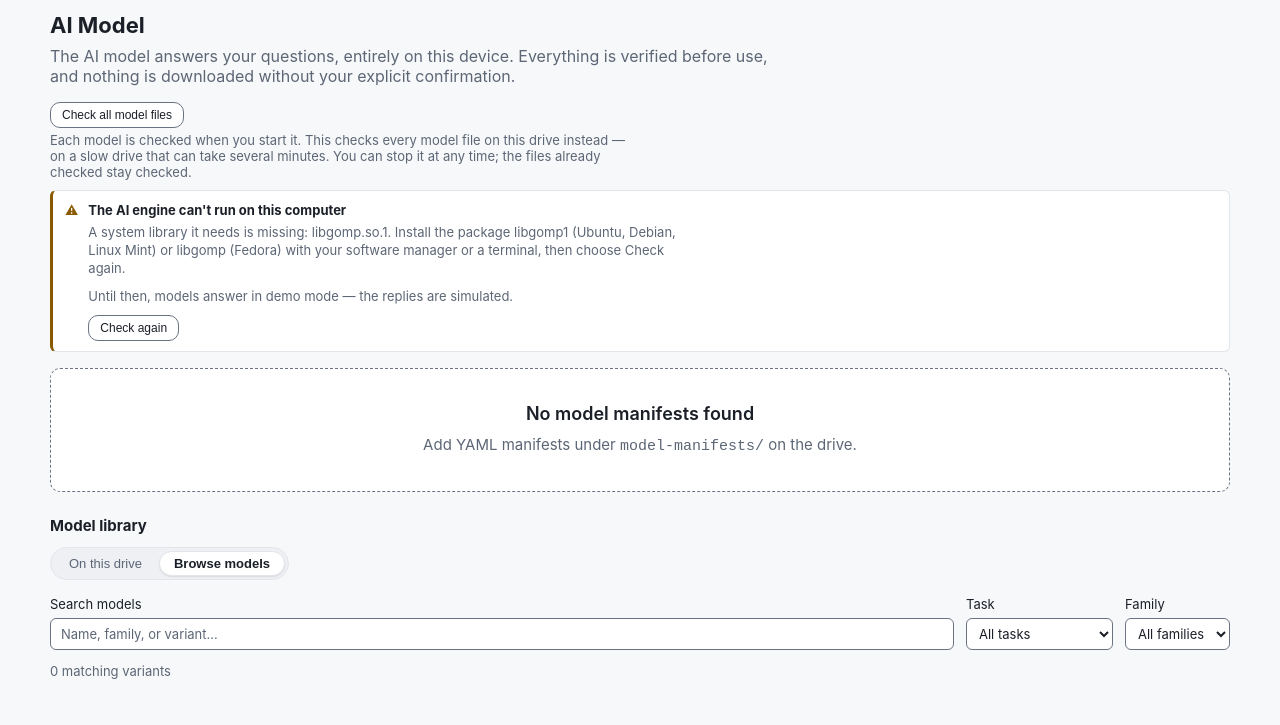
Test: ModelsScreen — engine problem banner (#530) › a rejected recheckEngine surfaces a friendly message in the banner
This screenshot has width=1280, height=725.
Click the button "Check again" at (134, 328), box 88,315 -> 179,341
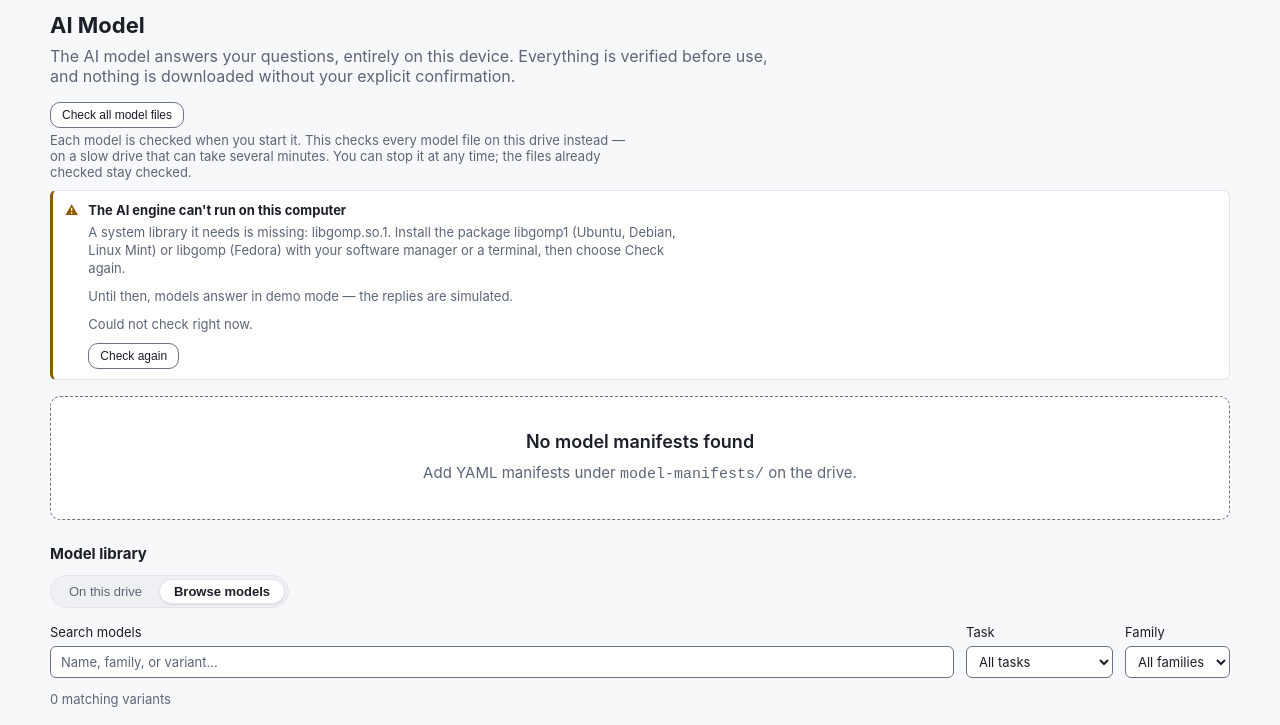
expect the button "Check again" is enabled: met, box 88,343 -> 179,369
expect the text "Could not check right now." is shown: met, box 88,315 -> 253,333
